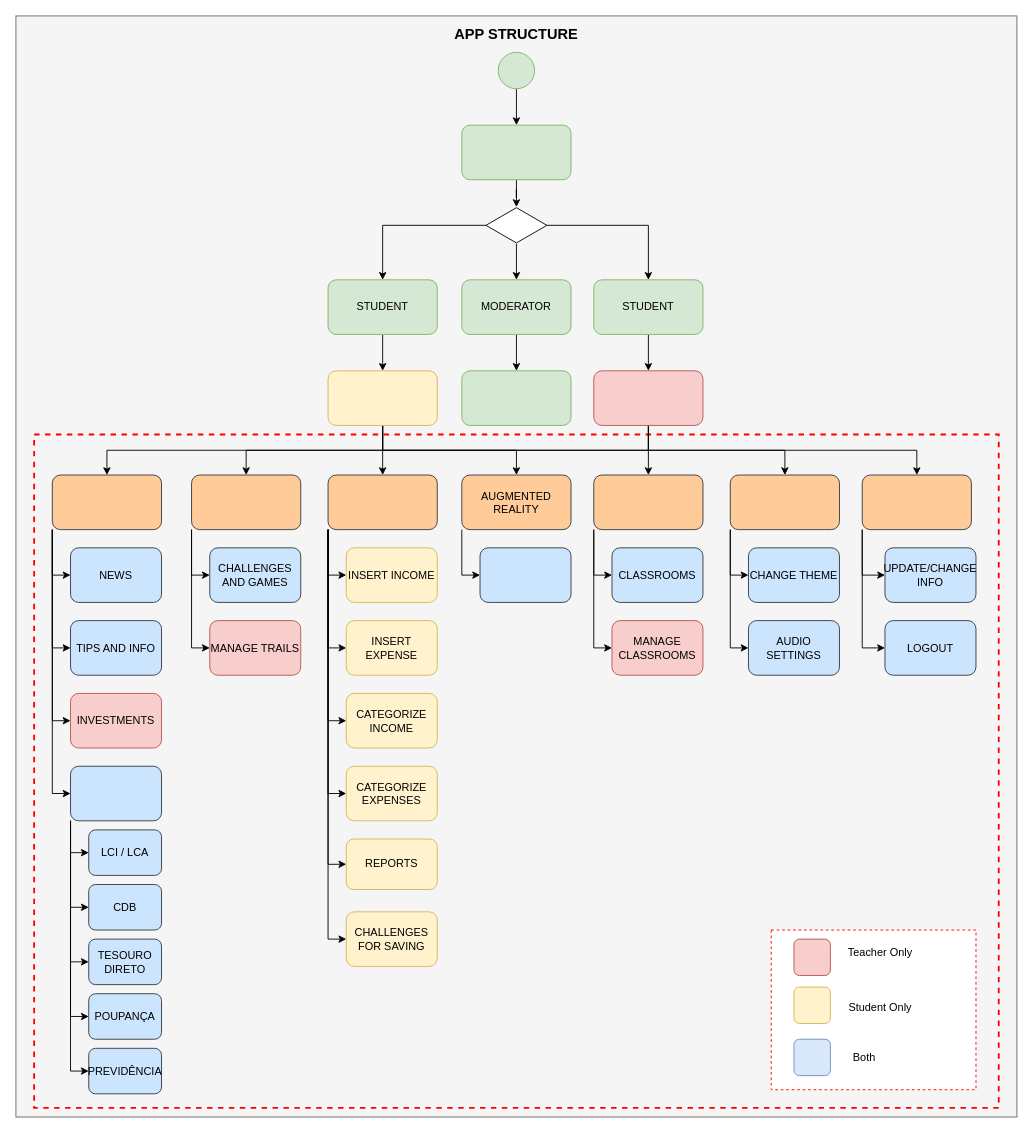
The diagram is 1033 pixels wide and 1133 high, and some of its shapes have lost their labels. Here are the shapes that lost their labels. From the top down, the centre of each, then its label:
At (516,152): "LOGIN".
At (382,397): "STUDENT MAIN MENU".
At (516,397): "CADASTRO".
At (648,397): "TEACHER MAIN MENU".
At (106,502): "NEWS FEED".
At (246,502): "TRILHAS".
At (382,502): "EXPENSES MANAGER".
At (648,502): "COMUNITY".
At (784,502): "APP SETTINGS".
At (916,502): "USER SETTINGS".
At (525,574): "CAMERA ACESS".
At (116,793): "INVESTIMENTOS".
